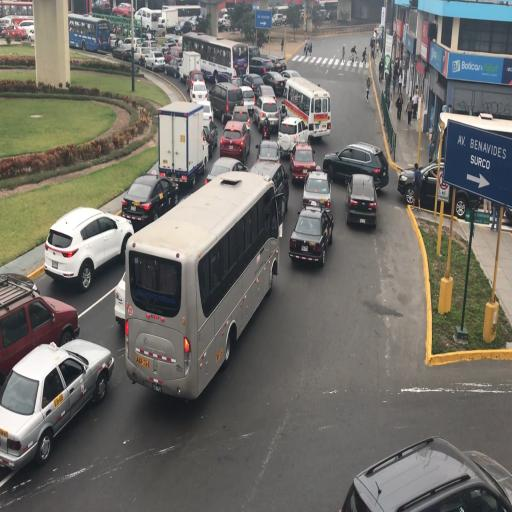auto: (2, 337, 116, 474), (340, 438, 510, 510), (0, 271, 78, 392), (43, 202, 132, 286), (397, 159, 489, 217), (121, 172, 180, 230), (322, 141, 383, 189), (288, 203, 332, 265), (249, 156, 288, 219), (42, 230, 78, 281), (345, 172, 376, 227), (219, 119, 250, 163), (301, 167, 330, 213), (289, 141, 318, 185), (278, 115, 307, 154), (206, 154, 246, 181), (256, 96, 280, 134), (234, 84, 256, 119), (256, 137, 281, 165), (252, 82, 277, 110), (114, 270, 126, 328), (261, 70, 287, 96), (230, 102, 252, 132), (115, 37, 143, 60), (1, 22, 28, 42), (248, 56, 271, 78), (144, 50, 166, 72), (197, 100, 214, 126), (164, 56, 184, 78), (162, 42, 181, 64), (138, 42, 155, 65), (280, 69, 300, 85), (133, 9, 148, 27), (116, 2, 132, 13), (221, 17, 232, 31), (93, 0, 110, 9), (218, 14, 225, 26)
bus: (126, 173, 277, 390), (280, 74, 329, 141), (182, 33, 241, 84), (68, 13, 111, 53), (164, 4, 202, 34), (134, 7, 164, 36), (271, 4, 290, 22)
camion: (157, 101, 208, 191), (180, 50, 202, 88)
moto: (365, 76, 370, 102), (351, 46, 358, 64)
